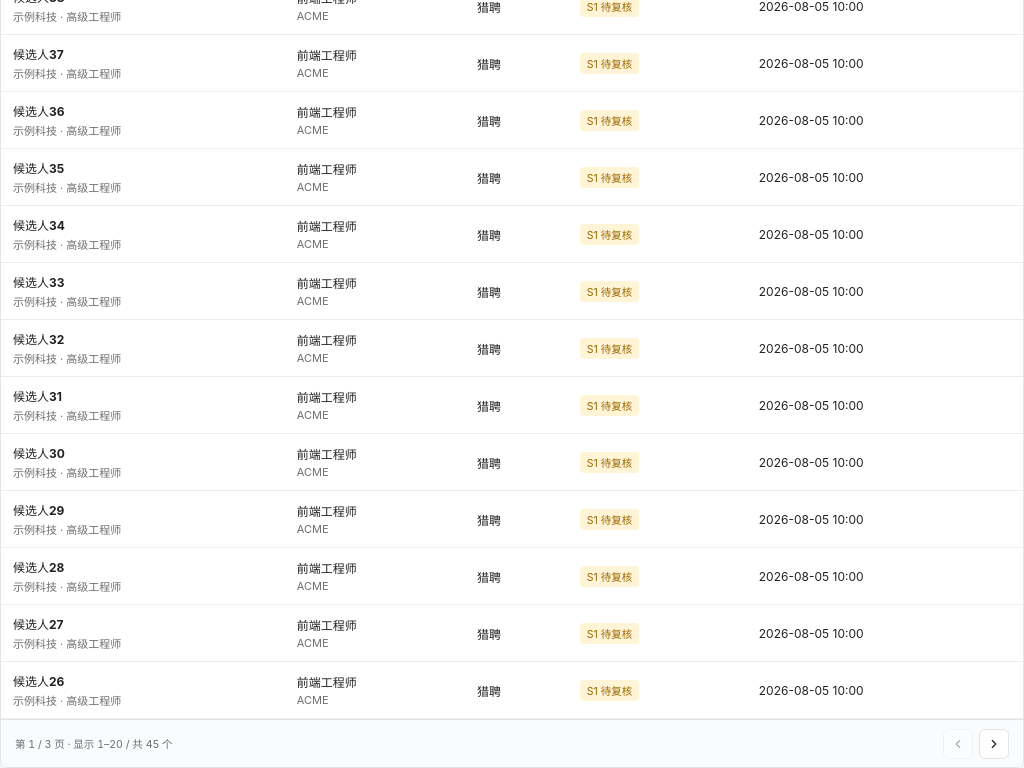
Scenario: 候选人列表 Candidates › 搜索与范围变化后页码回到第一页
(page scrolled)
Click the button named "下一页" at x=994, y=744, box [979,728,1009,758]
(page scrolled)
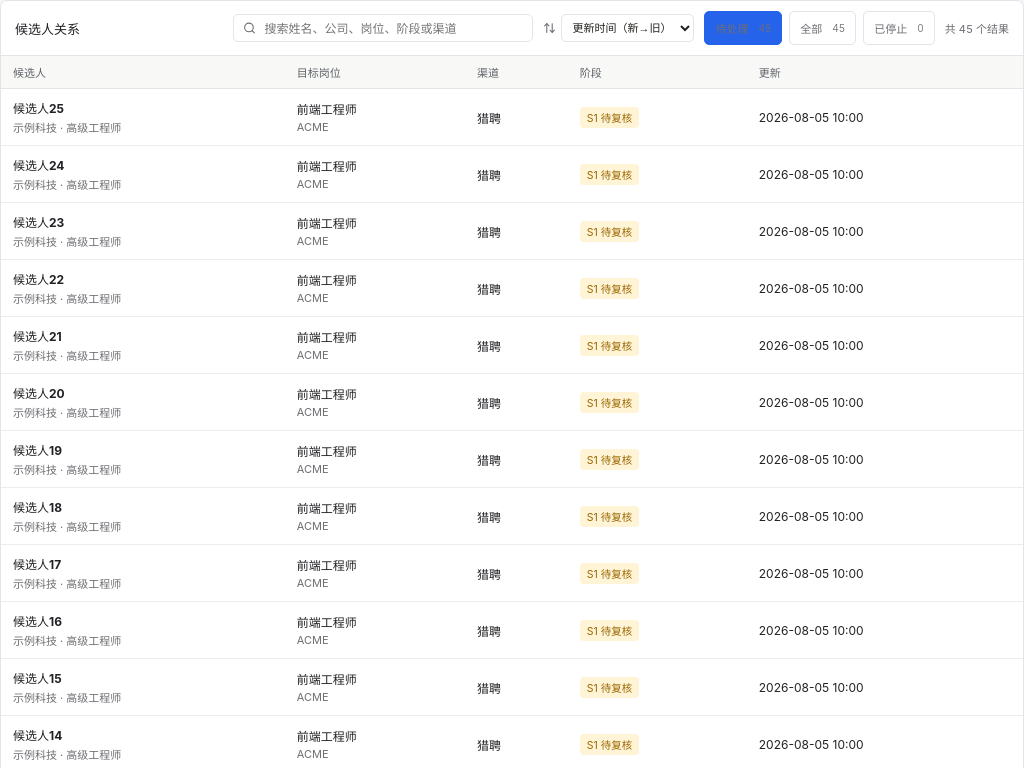
Type "候选人40" into the search field named "搜索候选人" at x=393, y=28, box [262,20,523,36]
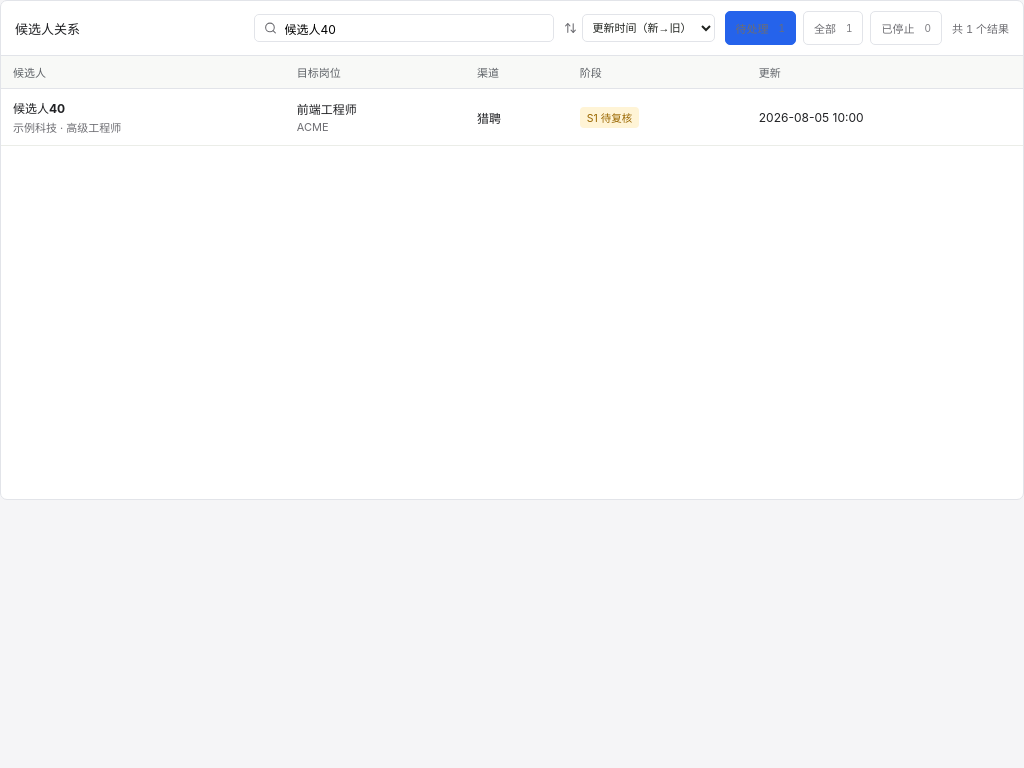
Expected: the text "第 1 / 3 页 · 显示 1–20 / 共 45 个" is not shown
Expected: the message reads "共 1 个结果", [952,22,1009,36]
Expected: the row "候选人40 示例科技 · 高级工程师 前端工程师 ACME 猎聘 S1 待复核 2026-08-05 10:00" is shown, [1,89,1023,146]
